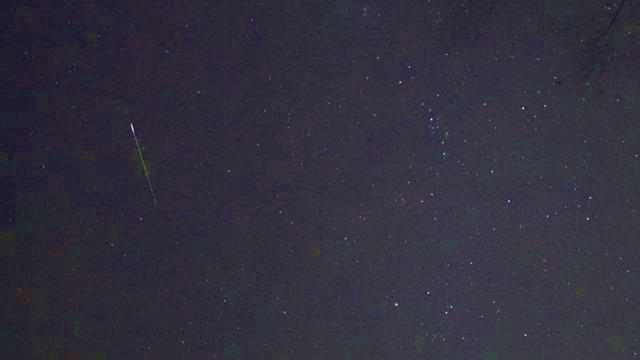meteorite: (118, 113, 163, 217)
